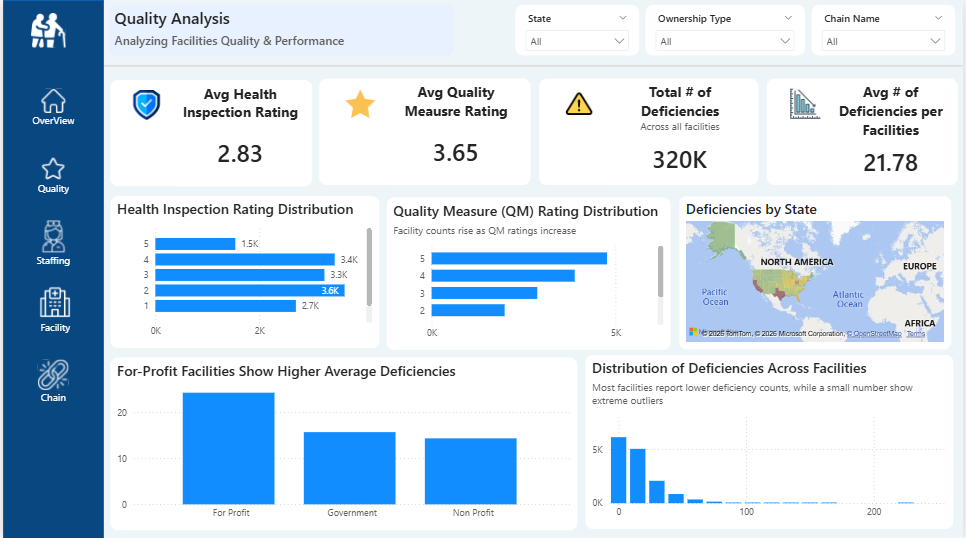

What the dashboard file says about the page in this screenshot:
{"tool":"powerbi","page":{"name":"Quality","canvas":[1280,720],"ordinal":1},"visuals":[{"type":"shape","box":[0,0,134.4,720],"z":0,"group":"g7"},{"type":"group","id":"g1","title":"Header","box":[135.7,5.6,1144.3,112.9],"z":0},{"type":"textbox","title":"Quality Analysis","box":[141,5.6,462.5,70],"z":0,"group":"g1"},{"type":"shape","box":[421.5,104.3,281.4,142],"z":0,"group":"g4"},{"type":"shape","box":[714.3,104.7,292.1,141.7],"z":0,"group":"g6"},{"type":"shape","box":[1017.2,104.7,254.4,141.7],"z":0,"group":"g8"},{"type":"group","id":"g2","title":"Total Facilites","box":[142.9,105.2,268.6,142],"z":0,"group":"g3"},{"type":"shape","box":[142.9,105.2,268.6,142],"z":0,"group":"g2"},{"type":"tableEx","fields":{"Values":["cms_cleaned.Provider Name","cms_cleaned.CMS Certification Number (CCN)"]},"box":[901.8,507.3,362.6,198.8],"z":0,"group":"g9"},{"type":"shape","title":"line","box":[135.7,54.3,1144.3,64.3],"z":500,"group":"g1"},{"type":"slicer","fields":{"Values":["cms_cleaned.State"]},"box":[683.7,7.5,165,67.5],"z":1000,"group":"g1"},{"type":"group","id":"g3","title":"KPI Group","box":[142.9,104.3,1128.7,142.9],"z":1000},{"type":"group","id":"g4","title":"Overall Rating","box":[421.5,104.3,281.4,142],"z":1000,"group":"g3"},{"type":"cardVisual","title":"Avg Quality Meausre Rating","fields":{"Data":["cms_cleaned.Avg QM rating"]},"box":[511.1,104.3,185,142],"z":1000,"group":"g4"},{"type":"cardVisual","title":"Total # of Deficiencies","fields":{"Data":["cms_cleaned.Total Deficiencies"]},"box":[806,104.7,192,141.7],"z":1000,"group":"g6"},{"type":"cardVisual","title":" Avg # of Deficiencies per Facilities","fields":{"Data":["cms_cleaned.Avg Deficienices per facilities"]},"box":[1098.1,104.7,167.2,141.7],"z":1000,"group":"g8"},{"type":"cardVisual","title":"Avg Health Inspection Rating","fields":{"Data":["cms_cleaned.Avg Inspection Rating"]},"box":[228.3,105.2,176.5,142],"z":1000,"group":"g2"},{"type":"actionButton","title":"Staffing","box":[0,274.3,134.3,98.6],"z":1000,"group":"g7"},{"type":"textbox","title":"Select a facility and drill through for detailed analysis","box":[901.8,475.5,362.6,31.8],"z":1000,"group":"g9"},{"type":"group","id":"g5","title":"Side Bar","box":[16.9,7.1,110,335.9],"z":2000},{"type":"slicer","fields":{"Values":["cms_cleaned.Ownership Type"]},"box":[857.5,7.5,212.5,67.5],"z":2000,"group":"g1"},{"type":"group","id":"g6","title":"Stafing rating","box":[714.3,104.7,292.1,141.7],"z":2000,"group":"g3"},{"type":"image","box":[451,118,50,40],"z":2000,"group":"g4"},{"type":"image","box":[743.1,118,50,40],"z":2000,"group":"g6"},{"type":"image","box":[1043.3,118,50,40],"z":2000,"group":"g8"},{"type":"image","box":[166.8,118.2,50,40],"z":2000,"group":"g2"},{"type":"actionButton","title":"Chain","box":[0,462.9,134.3,90],"z":2000,"group":"g7"},{"type":"group","id":"g7","title":"Side Bar","box":[0,0,135.7,720],"z":3000},{"type":"slicer","fields":{"Values":["cms_cleaned.Chain Name"]},"box":[1078.7,7.5,191.2,67.5],"z":3000,"group":"g1"},{"type":"group","id":"g8","title":"Resident per day","box":[1017.2,104.7,254.4,141.7],"z":3000,"group":"g3"},{"type":"actionButton","title":"Facility","box":[2.9,360,132.9,102.9],"z":3000,"group":"g7"},{"type":"actionButton","title":"OverView","box":[0,98.6,134.3,90],"z":4000,"group":"g7"},{"type":"clusteredBarChart","title":"Health Inspection Rating Distribution","fields":{"Y":["cms_cleaned.Total Facilities"],"Category":["cms_cleaned.Health Inspection Rating"]},"box":[144,262,358,202],"z":4000},{"type":"actionButton","box":[0,188.6,134.3,90],"z":5000,"group":"g7"},{"type":"clusteredBarChart","title":"Quality Measure (QM) Rating Distribution","fields":{"Y":["cms_cleaned.Total Facilities"],"Category":["cms_cleaned.QM Rating"]},"box":[511.7,263.3,378.3,203.3],"z":5000},{"type":"actionButton","box":[17.1,7.1,50,54.3],"z":6000,"group":"g5"},{"type":"actionButton","box":[34.1,12.9,67.1,54.3],"z":6000,"group":"g7"},{"type":"clusteredColumnChart","title":"For-Profit Facilities Show Higher Average Deficiencies","fields":{"Category":["cms_cleaned.Ownership Category"],"Y":["cms_cleaned.Avg Deficienices per facilities"]},"box":[144.7,475.5,357.9,230.6],"z":6000},{"type":"filledMap","title":"Deficiencies by State","fields":{"Category":["cms_cleaned.State"]},"box":[902,262,362,204],"z":7000},{"type":"clusteredColumnChart","title":"Distribution of Deficiencies Across Facilities","fields":{"Category":["cms_cleaned.Total Def. (bins)"],"Y":["cms_cleaned.Total Facilities"]},"box":[512.1,475.5,378.5,232.2],"z":8000},{"type":"group","id":"g9","title":"Group 1","box":[901.8,475.5,362.6,230.6],"z":9000}]}

Visuals, with their boxes on the page's 1280x720 design canvas (x1, y1, x2, y2). These are canvas units, not pixel positions in the 966x538 screenshot, which may show the page scaled, cropped or inside an application window:
shape: <bbox>0, 0, 134, 720</bbox>
"Header" group: <bbox>136, 6, 1280, 118</bbox>
"Quality Analysis" textbox: <bbox>141, 6, 604, 76</bbox>
shape: <bbox>422, 104, 703, 246</bbox>
shape: <bbox>714, 105, 1006, 246</bbox>
shape: <bbox>1017, 105, 1272, 246</bbox>
"Total Facilites" group: <bbox>143, 105, 412, 247</bbox>
shape: <bbox>143, 105, 412, 247</bbox>
tableEx - cms_cleaned.Provider Name x cms_cleaned.CMS Certification Number (CCN): <bbox>902, 507, 1264, 706</bbox>
"line" shape: <bbox>136, 54, 1280, 119</bbox>
slicer - cms_cleaned.State: <bbox>684, 8, 849, 75</bbox>
"KPI Group" group: <bbox>143, 104, 1272, 247</bbox>
"Overall Rating" group: <bbox>422, 104, 703, 246</bbox>
"Avg Quality Meausre Rating" cardVisual: <bbox>511, 104, 696, 246</bbox>
"Total # of Deficiencies" cardVisual: <bbox>806, 105, 998, 246</bbox>
" Avg # of Deficiencies per Facilities" cardVisual: <bbox>1098, 105, 1265, 246</bbox>
"Avg Health Inspection Rating" cardVisual: <bbox>228, 105, 405, 247</bbox>
"Staffing" actionButton: <bbox>0, 274, 134, 373</bbox>
"Select a facility and drill through for detailed analysis" textbox: <bbox>902, 476, 1264, 507</bbox>
"Side Bar" group: <bbox>17, 7, 127, 343</bbox>
slicer - cms_cleaned.Ownership Type: <bbox>858, 8, 1070, 75</bbox>
"Stafing rating" group: <bbox>714, 105, 1006, 246</bbox>
image: <bbox>451, 118, 501, 158</bbox>
image: <bbox>743, 118, 793, 158</bbox>
image: <bbox>1043, 118, 1093, 158</bbox>
image: <bbox>167, 118, 217, 158</bbox>
"Chain" actionButton: <bbox>0, 463, 134, 553</bbox>
"Side Bar" group: <bbox>0, 0, 136, 720</bbox>
slicer - cms_cleaned.Chain Name: <bbox>1079, 8, 1270, 75</bbox>
"Resident per day" group: <bbox>1017, 105, 1272, 246</bbox>
"Facility" actionButton: <bbox>3, 360, 136, 463</bbox>
"OverView" actionButton: <bbox>0, 99, 134, 189</bbox>
"Health Inspection Rating Distribution" clusteredBarChart: <bbox>144, 262, 502, 464</bbox>
actionButton: <bbox>0, 189, 134, 279</bbox>
"Quality Measure (QM) Rating Distribution" clusteredBarChart: <bbox>512, 263, 890, 467</bbox>
actionButton: <bbox>17, 7, 67, 61</bbox>
actionButton: <bbox>34, 13, 101, 67</bbox>
"For-Profit Facilities Show Higher Average Deficiencies" clusteredColumnChart: <bbox>145, 476, 503, 706</bbox>
"Deficiencies by State" filledMap: <bbox>902, 262, 1264, 466</bbox>
"Distribution of Deficiencies Across Facilities" clusteredColumnChart: <bbox>512, 476, 891, 708</bbox>
"Group 1" group: <bbox>902, 476, 1264, 706</bbox>
